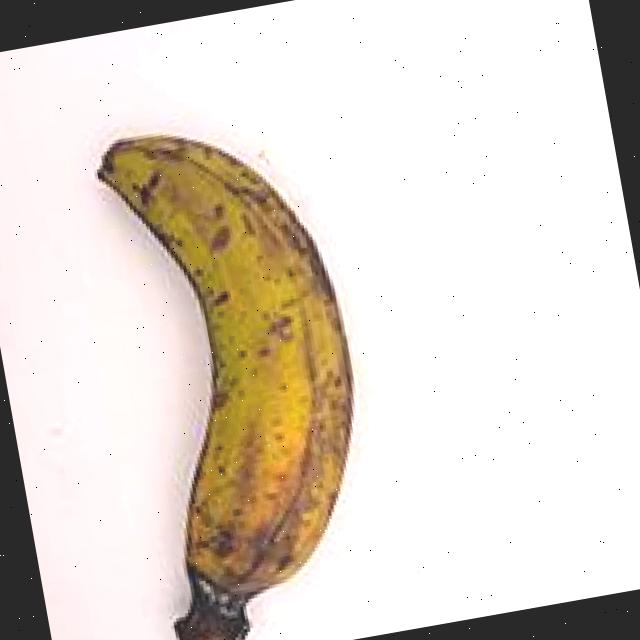Overripe: (29, 51, 420, 640)
